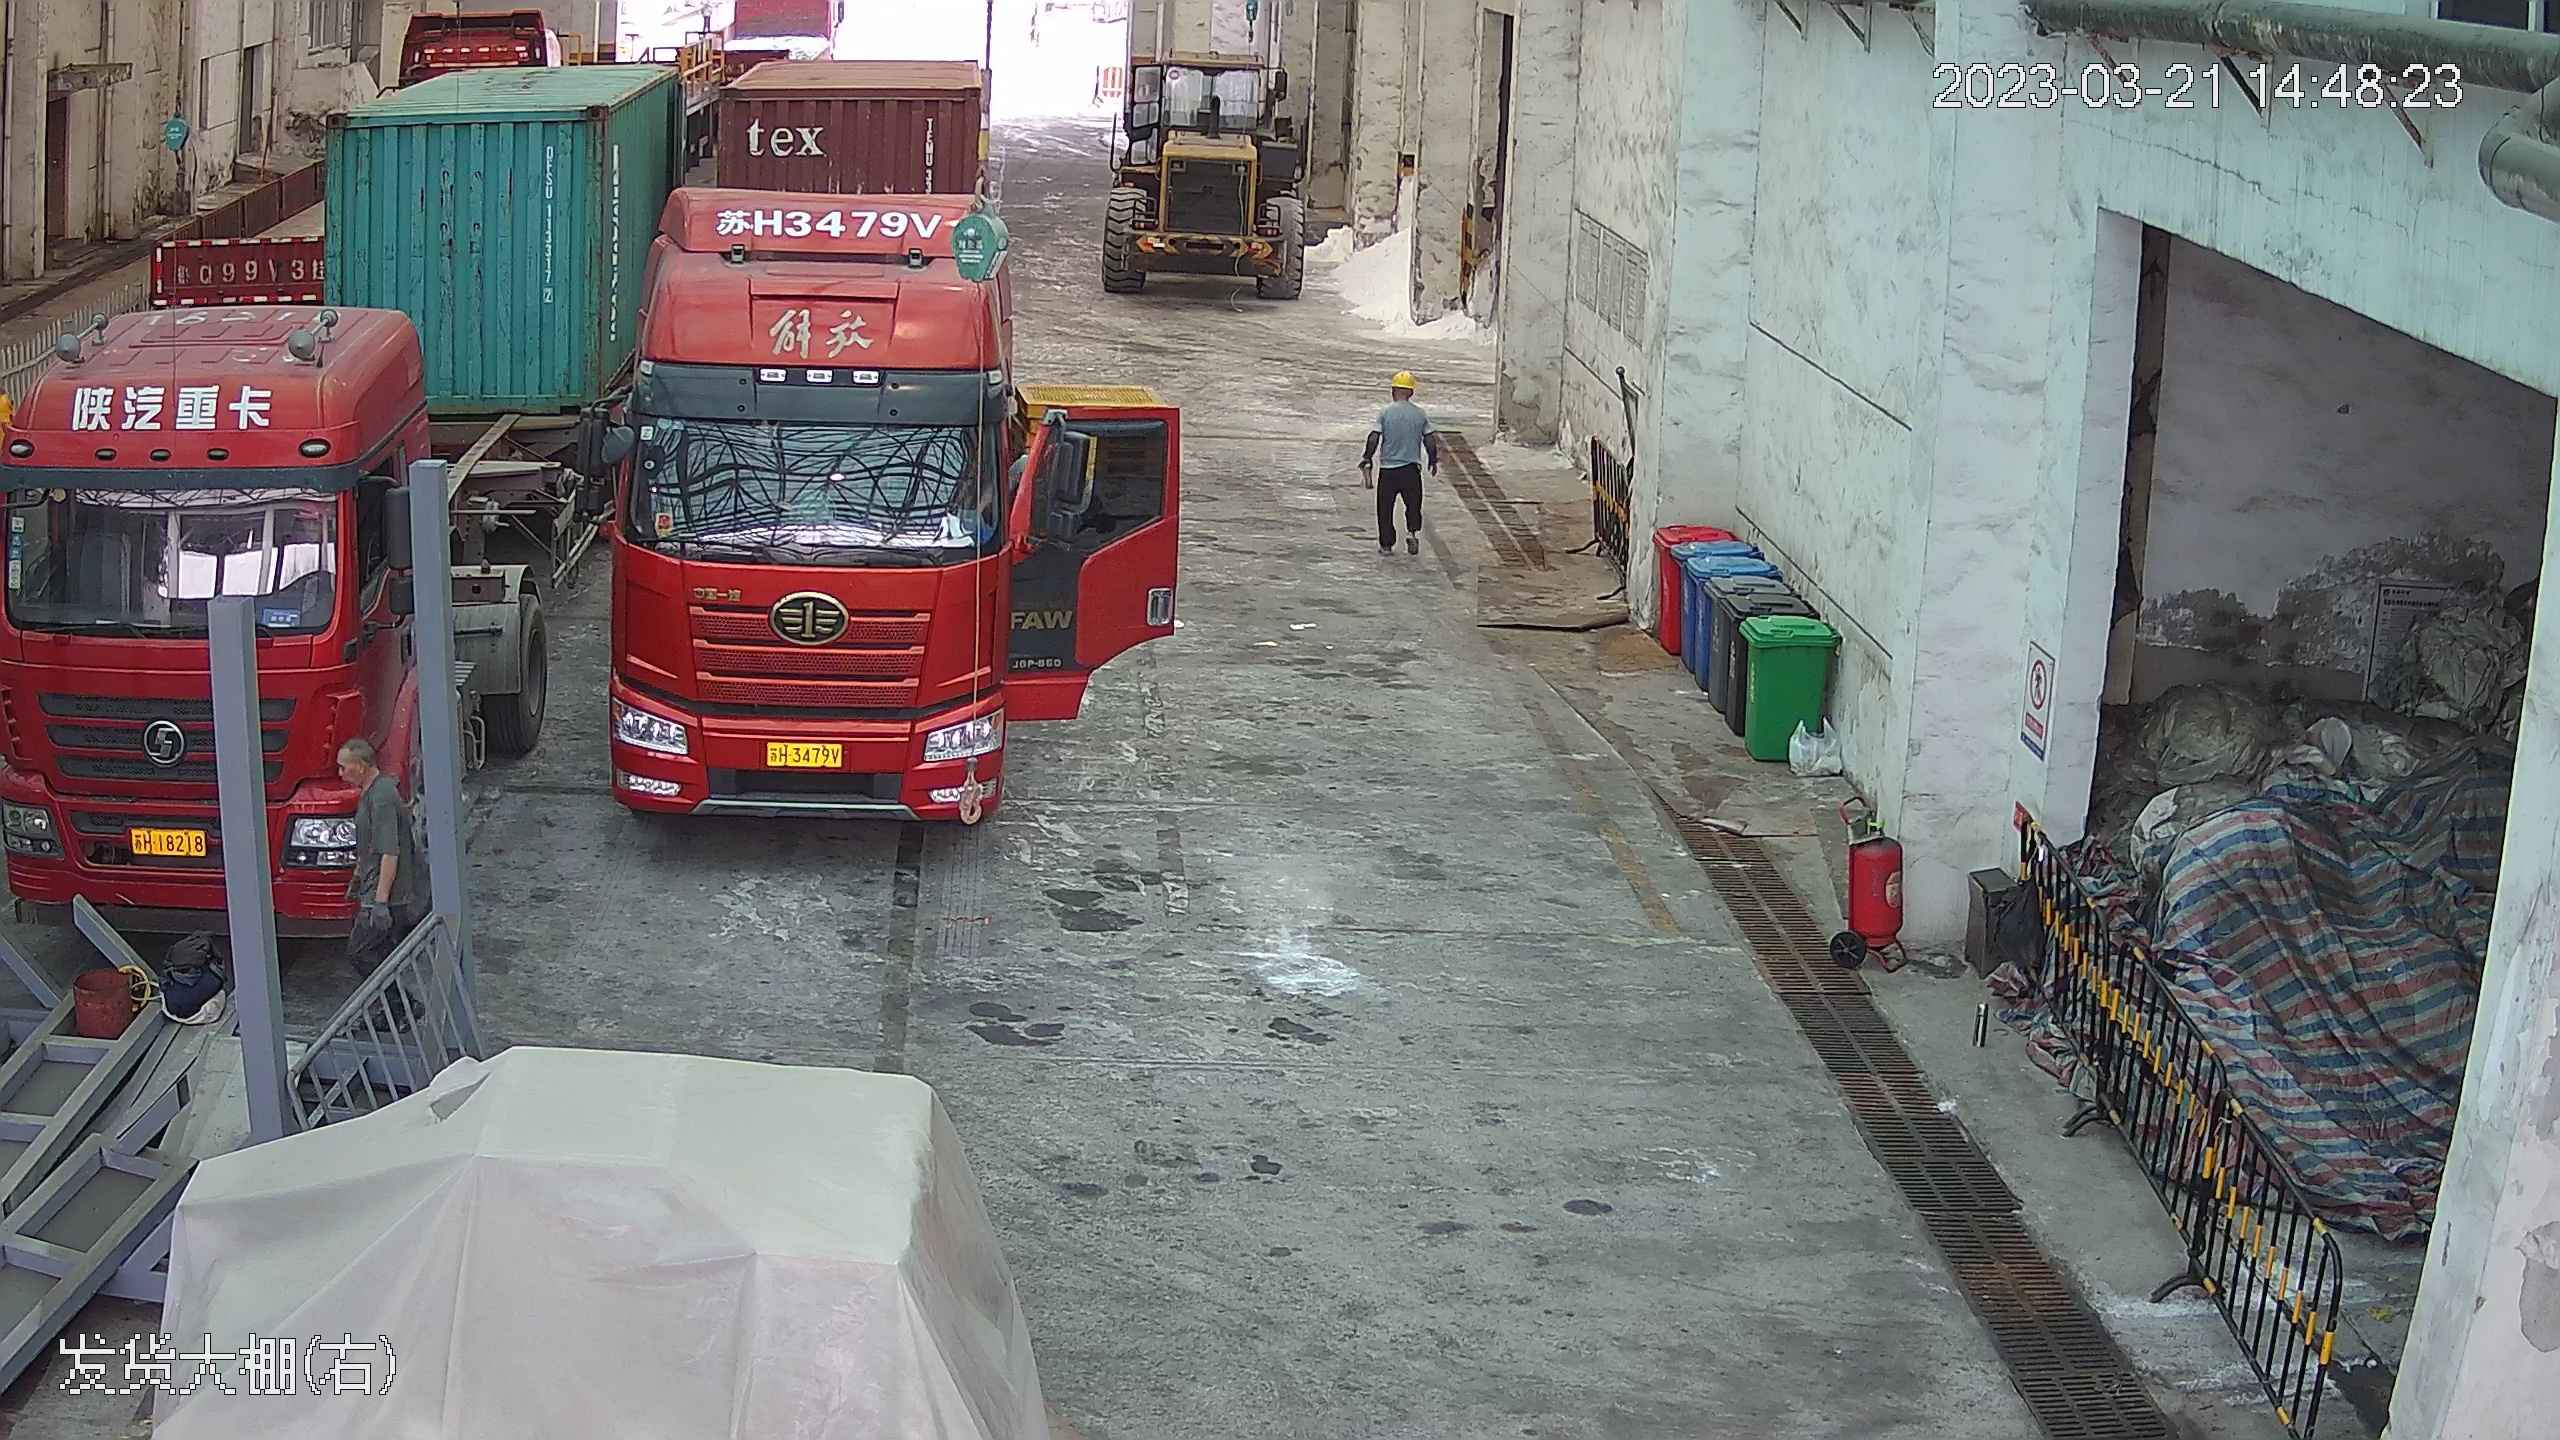head: (1373, 367, 1432, 428)
helmet: (1388, 367, 1420, 391)
people: (1362, 364, 1437, 561)
truck: (5, 18, 608, 967), (604, 16, 1044, 824)
